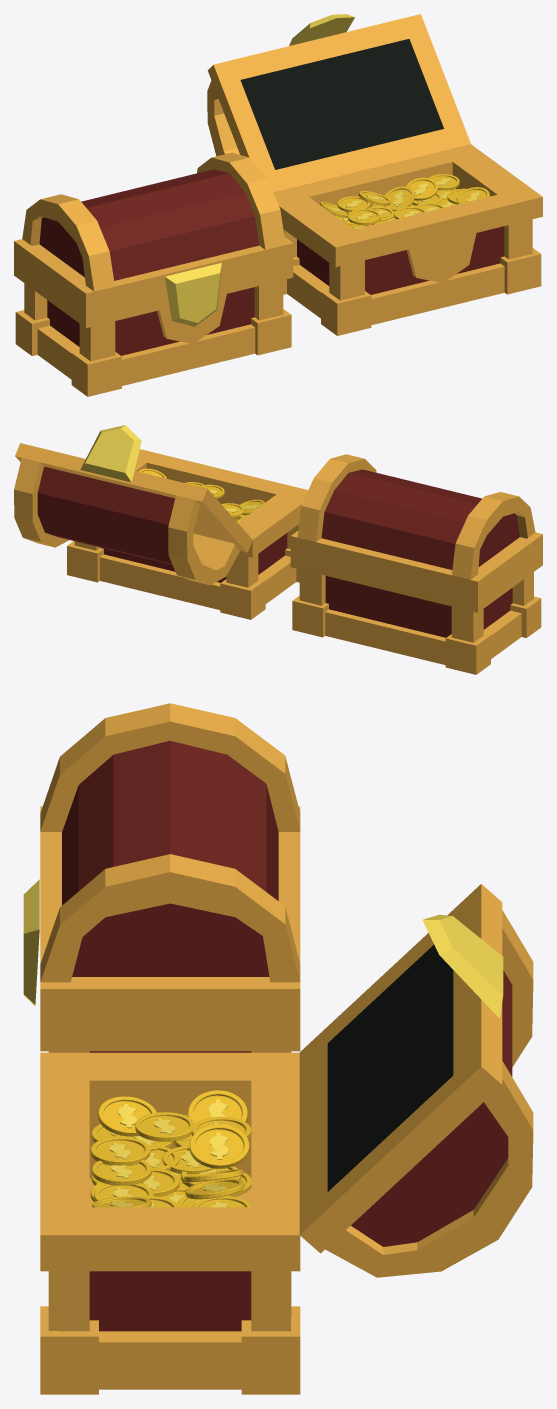
The model's file is sandk_son.fbx.
3 views of the same model, one above another, from view 1: azimuth 30°, elevation 25°; view 2: azimuth 150°, elevation 25°; view 3: azimuth 270°, elevation 25° (orthographic). The views are drawn at different scales.
Parts seen in each view (by area): view 1: Cube.004, Cube.001, Circle.021; view 2: Cube.001, Cube.004, Circle.021; view 3: Cube.004, Cube.001, Circle.021.
Part boxes in pixels (x1,y1,x2,y2): Cube.004: (207,14,542,335); Cube.001: (14,152,293,396); Circle.021: (320,174,489,229); Cube.001: (290,454,542,674); Cube.004: (14,425,308,619); Circle.021: (138,468,264,522); Cube.004: (40,884,533,1394); Cube.001: (23,703,300,1052); Circle.021: (90,1090,251,1207).
Bounding box in the file's own units: 841 × 378 × 450.
